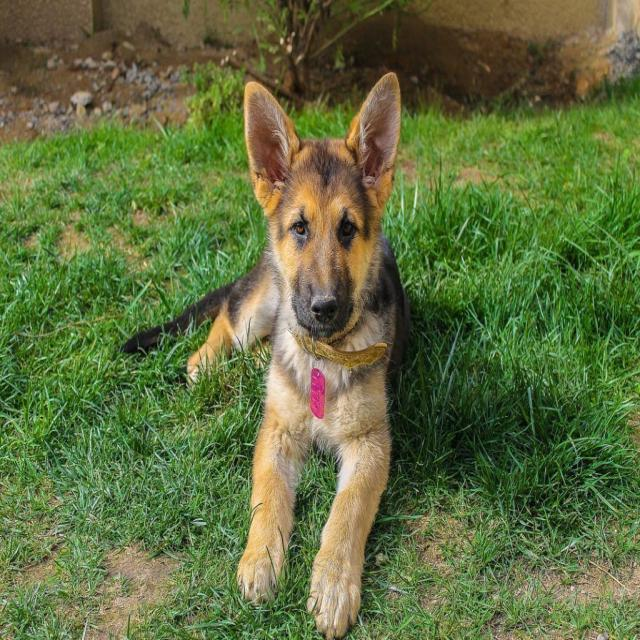GERMAN_SHEPHERD: (112, 53, 449, 640)
